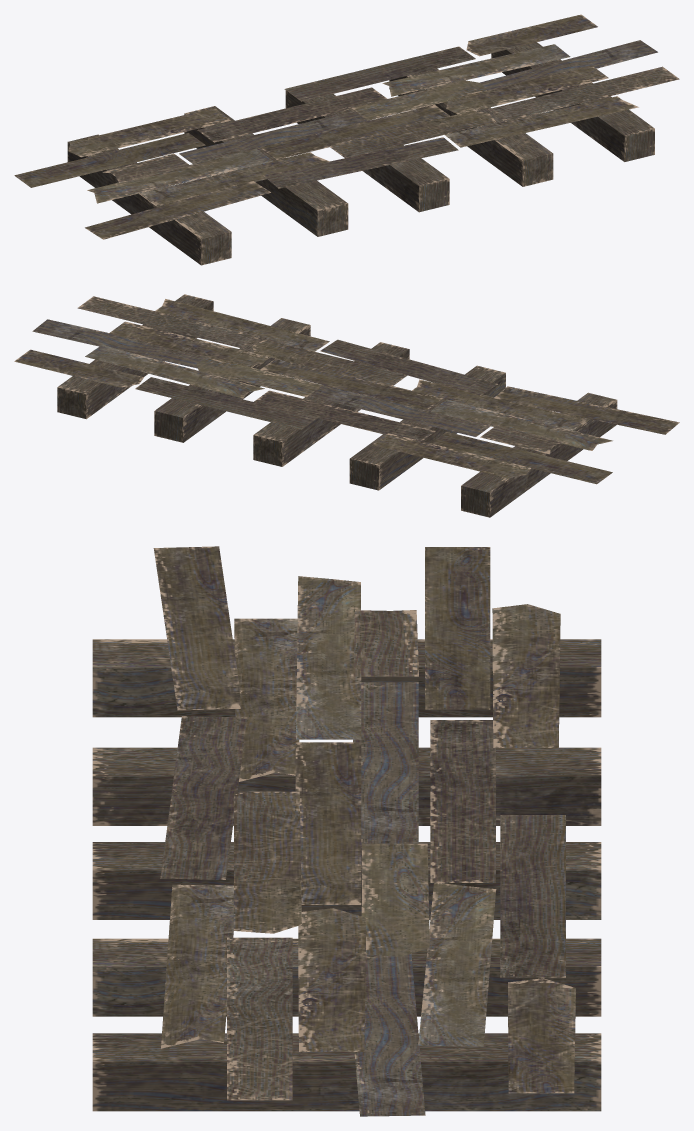
Rendered from Scaffolding_Floor.fbx.
The picture shows the model from 3 angles, top to bottom: view 1: azimuth 30°, elevation 25°; view 2: azimuth 150°, elevation 25°; view 3: azimuth 270°, elevation 25°; orthographic projection. The views are drawn at different scales.
Visible parts, largest first — view 1: CDTMesh_Scaffolding_Floor_LOD; view 2: CDTMesh_Scaffolding_Floor_LOD; view 3: CDTMesh_Scaffolding_Floor_LOD.
Part boxes in pixels (x1=…): CDTMesh_Scaffolding_Floor_LOD: x1=14, y1=14, x2=679, y2=265; CDTMesh_Scaffolding_Floor_LOD: x1=14, y1=294, x2=679, y2=517; CDTMesh_Scaffolding_Floor_LOD: x1=92, y1=546, x2=601, y2=1116.
Size of the model in its own units: 10.93 by 0.6268 by 4.13.
